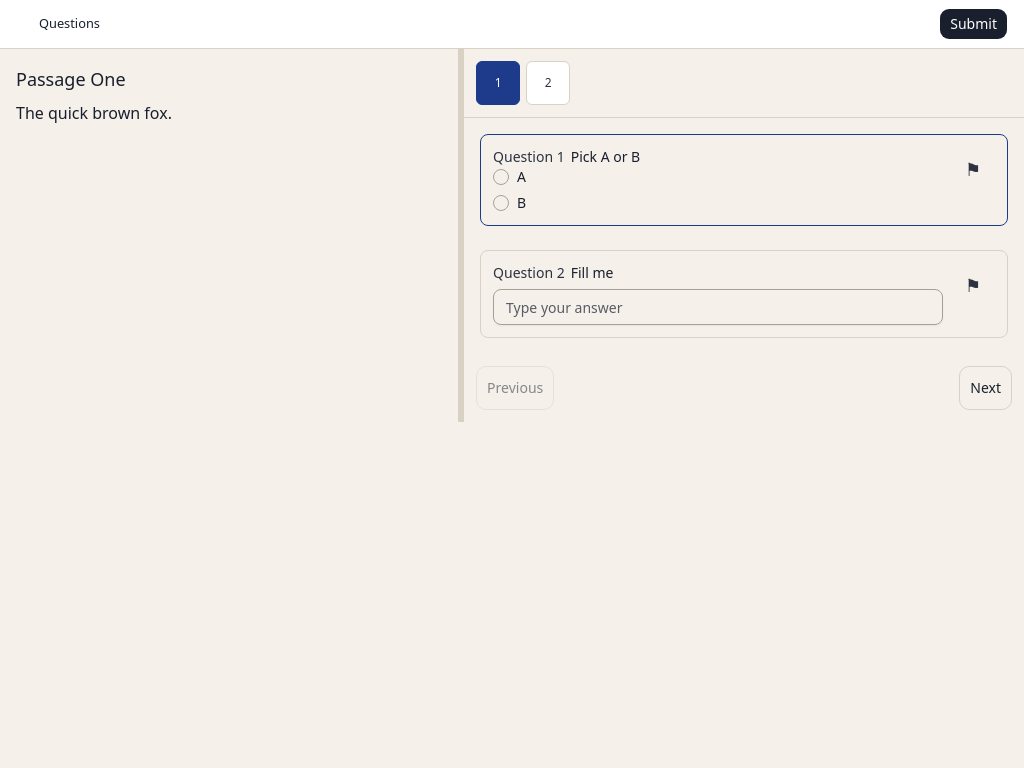
Test: AttemptPage — racing write 409 (AC15, WF-8 #9) › a TIME_EXPIRED progress 409 flips the attempt read-only inline
Click the radio button with test id "choice-0:0:0-A" at (501, 177), box left=493, top=169, right=509, bottom=185
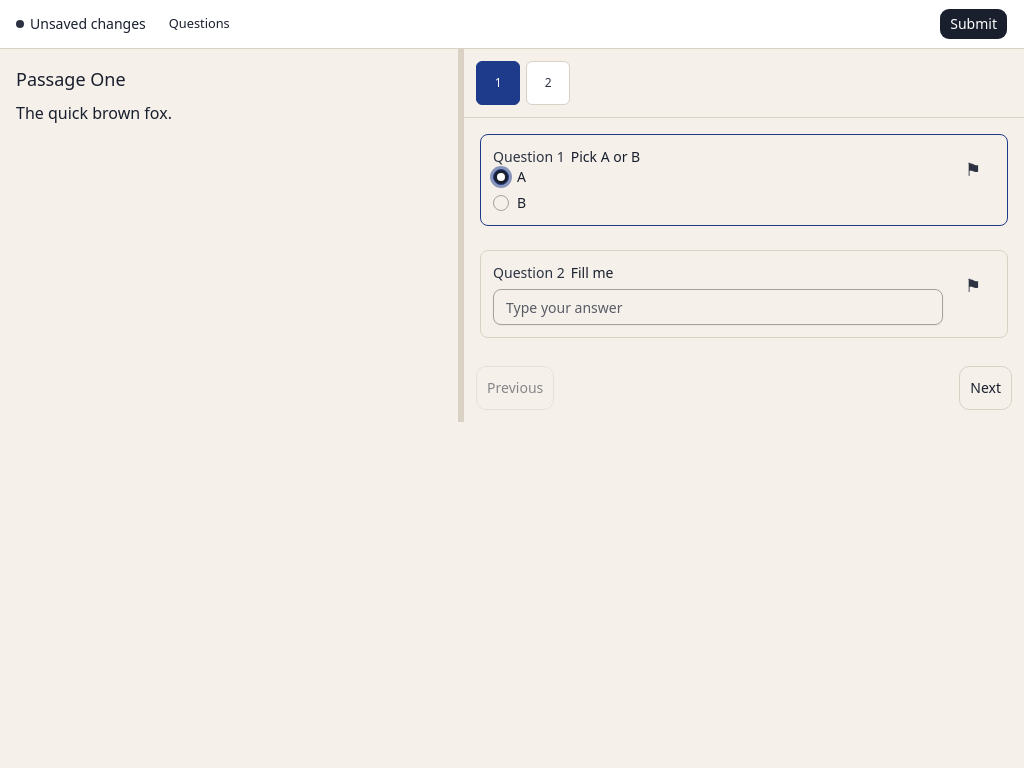
Note: Force the flush by opening submit (which flushes) — the 409 flips read-only.
Click the button with test id "attempt-submit-open" at (974, 24), box left=939, top=8, right=1008, bottom=40
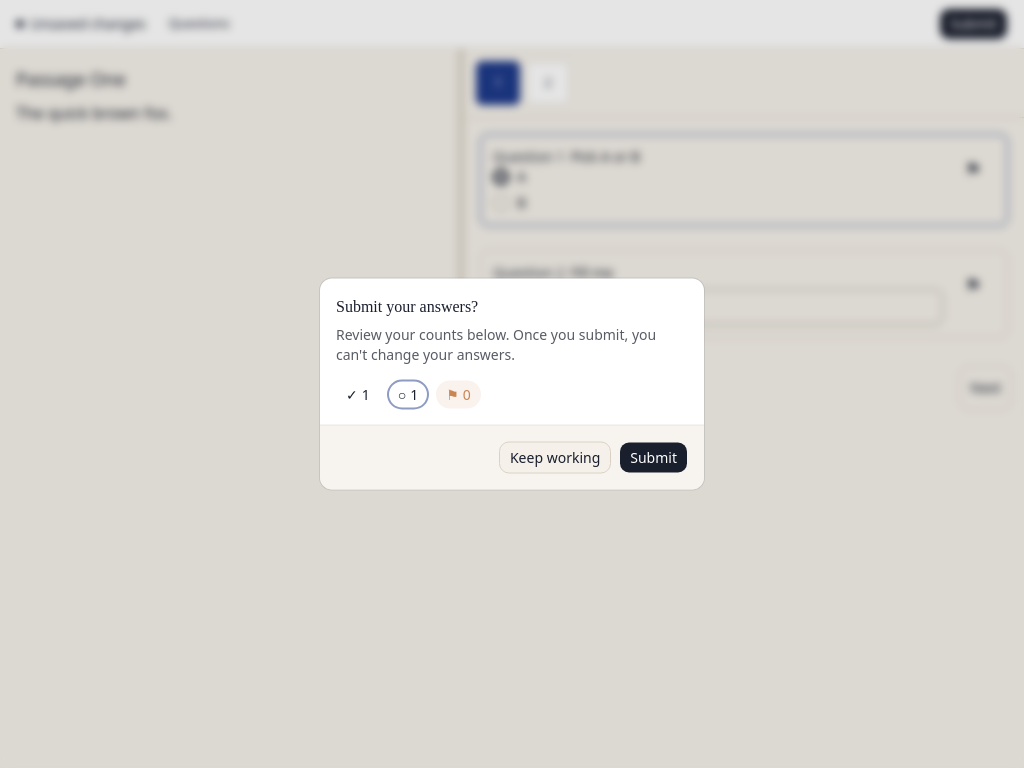
Click the button with test id "submit-confirm" at (654, 458), box left=619, top=442, right=688, bottom=474
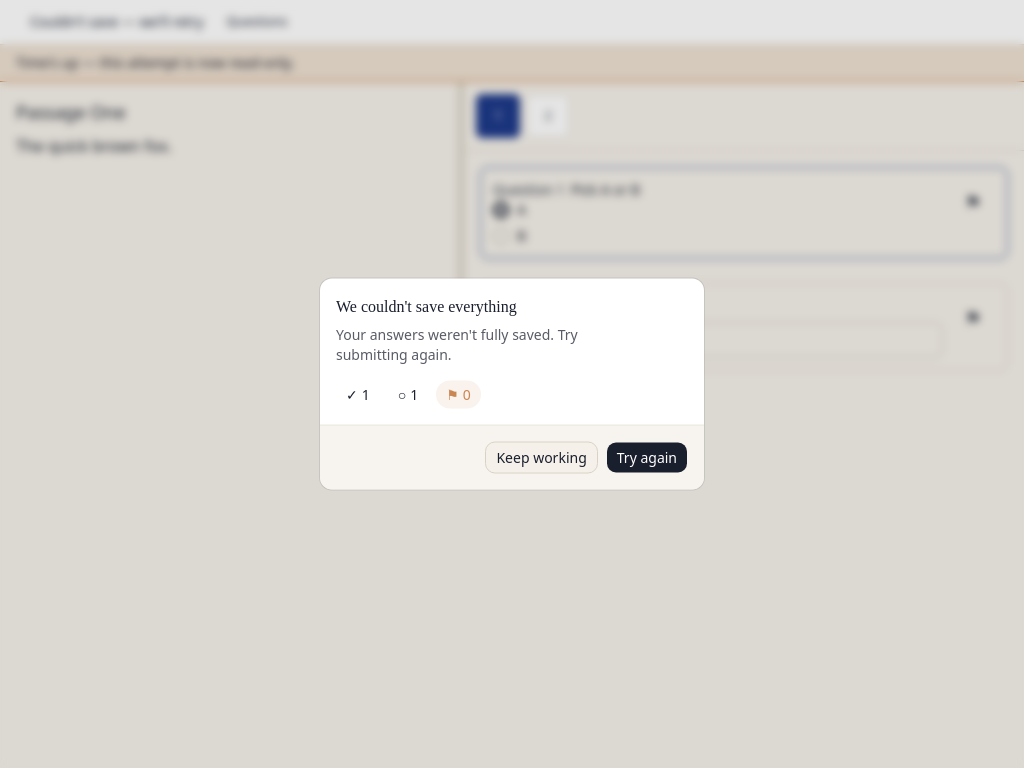
Expected: the message with test id "attempt-readonly-banner" reads "Time's up — this attempt is now read-only.", left=16, top=53, right=295, bottom=72
